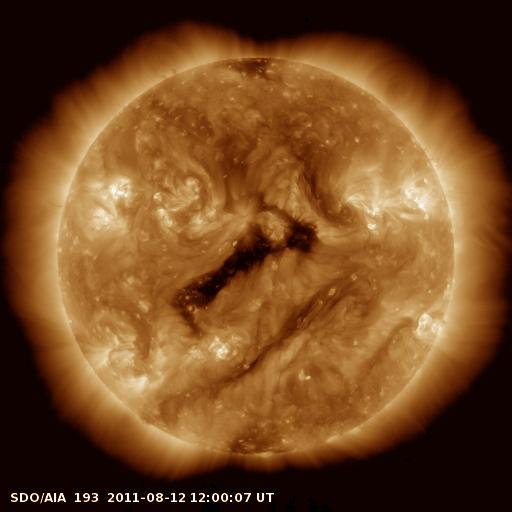coronal_hole: (172, 229, 277, 331), (285, 215, 323, 259)
